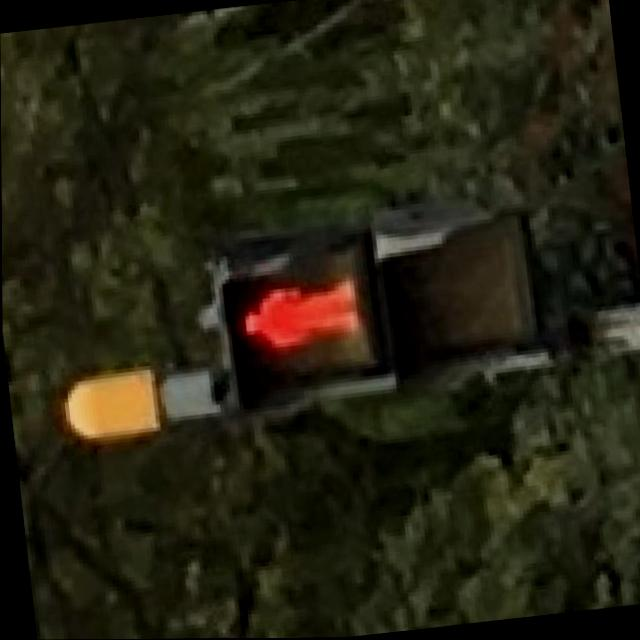red_light: (223, 255, 369, 374)
